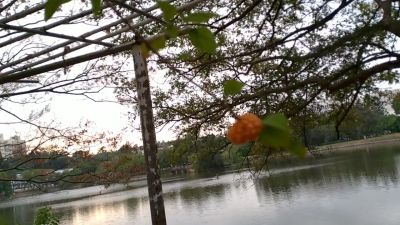eggs: (227, 111, 264, 145)
